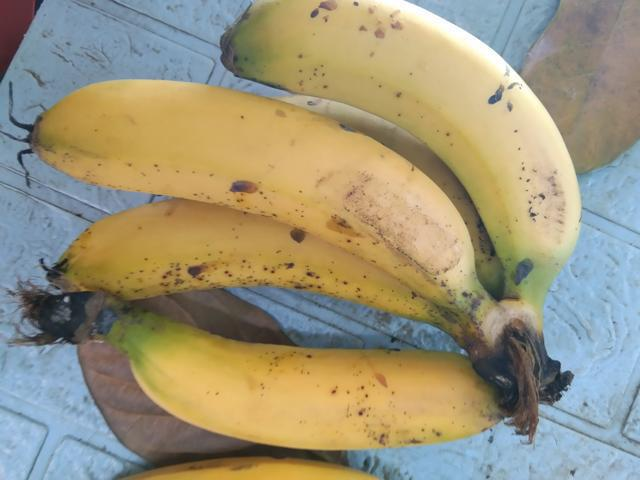ripe: (13, 64, 488, 293), (226, 0, 582, 269), (107, 315, 522, 479), (24, 174, 379, 337)
